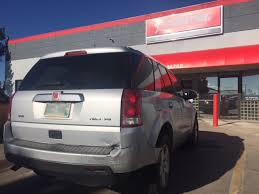rear-bumper-dent: (75, 143, 125, 168)
